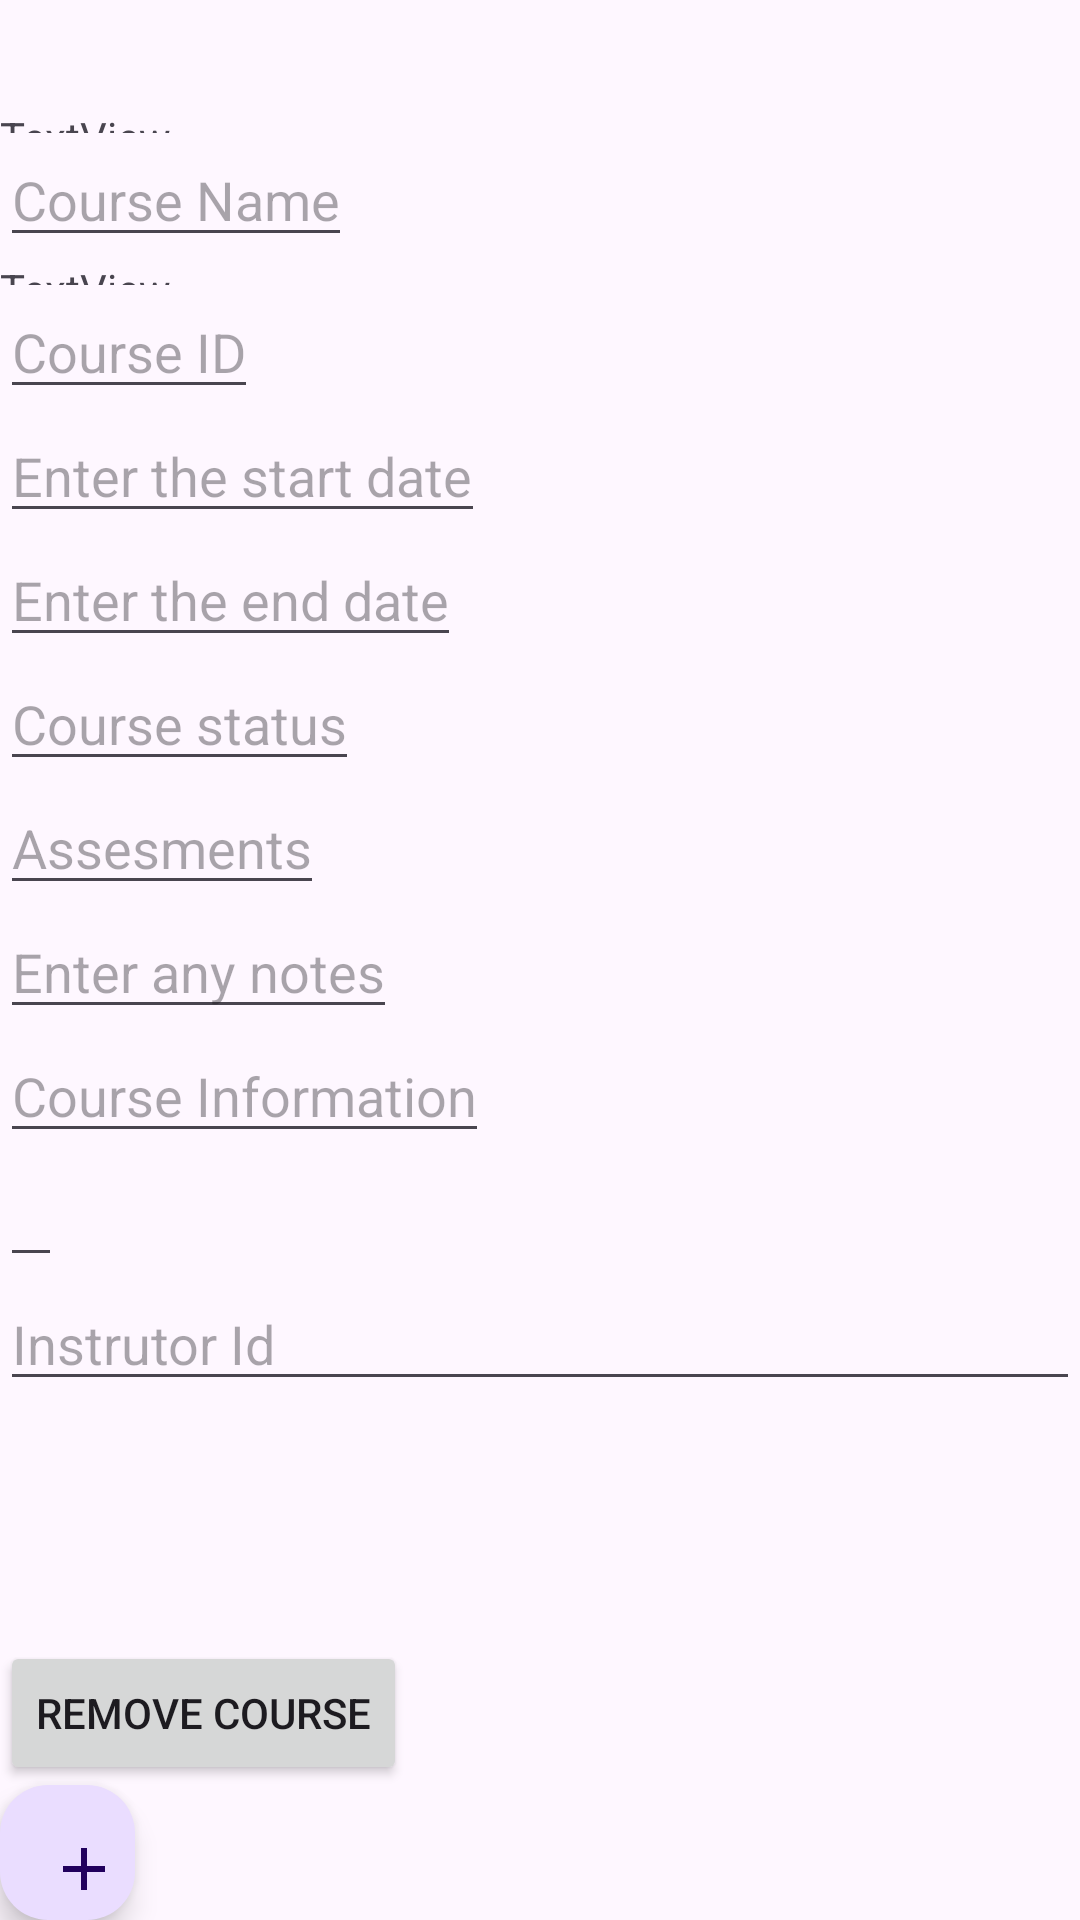

Icon click points for this 1080×1920 phone screenshot, format point (x, y):
add: point (67, 1852)
